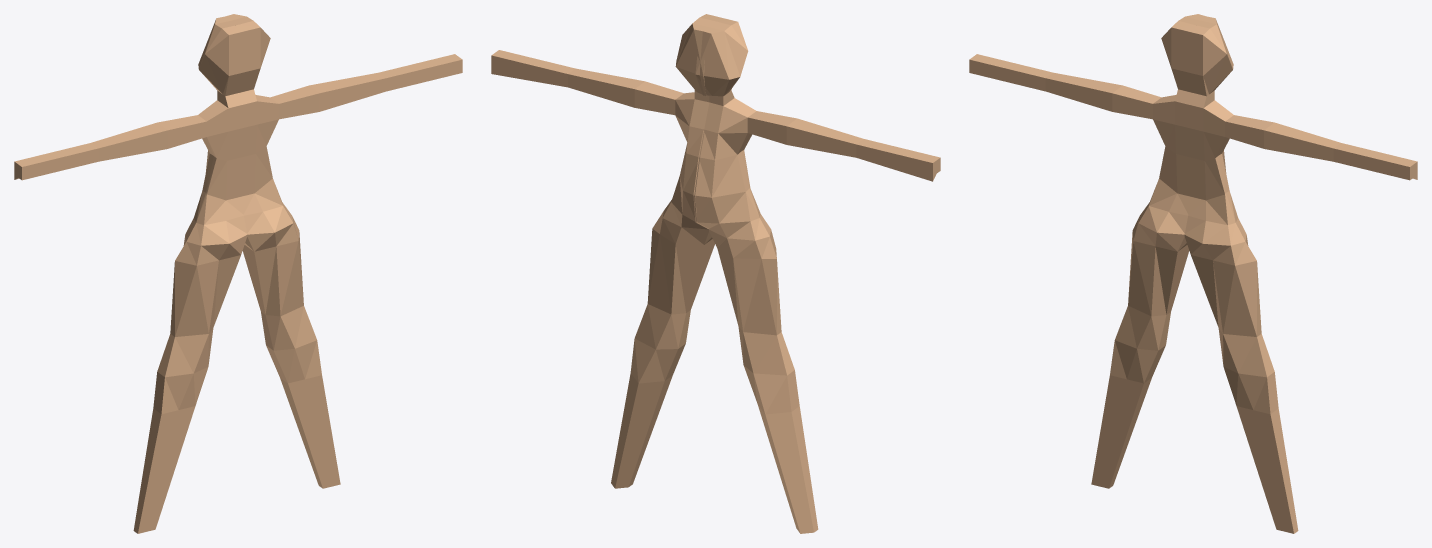
Rendered from Human.dae.
3 renders of one model, left to right at view 1: azimuth 30°, elevation 25°; view 2: azimuth 150°, elevation 25°; view 3: azimuth 330°, elevation 25°, orthographic.
Visible parts, largest first — view 1: Cube; view 2: Cube; view 3: Cube.
Part boxes in pixels (x1,y1,x2,y2): Cube: (14, 14, 462, 533); Cube: (491, 14, 940, 533); Cube: (969, 14, 1417, 533).
Size of the model in its own units: 45.04 by 6.29 by 47.23.
